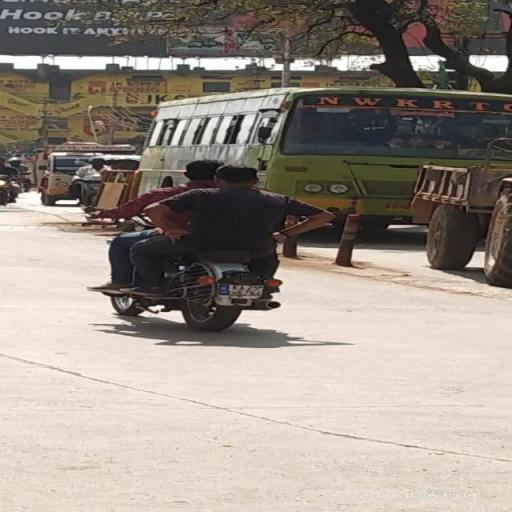bike: (88, 155, 340, 341)
numberplate: (220, 283, 264, 297)
withouthelmet: (218, 164, 256, 187), (188, 160, 218, 182)
